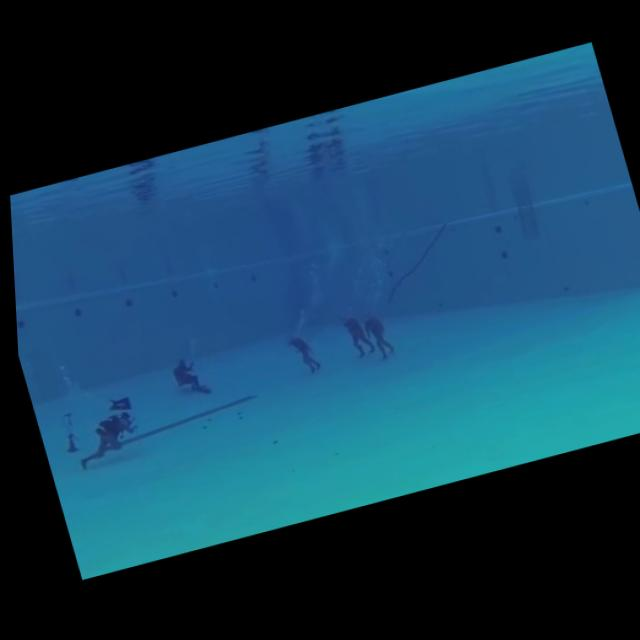human: (54, 387, 146, 478), (159, 341, 214, 408), (272, 321, 323, 386), (353, 304, 401, 371), (331, 306, 377, 366)
